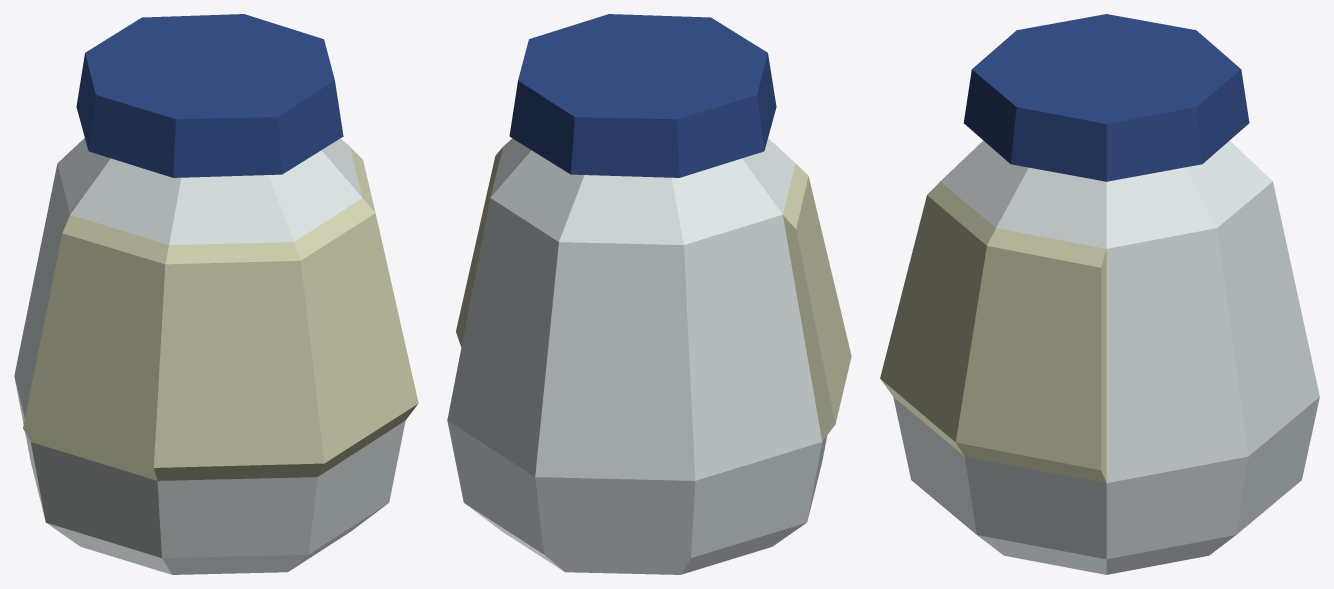
File: Empty Mayo.fbx
3 renders of one model, left to right at view 1: azimuth 30°, elevation 25°; view 2: azimuth 150°, elevation 25°; view 3: azimuth 270°, elevation 25°, orthographic.
Visible parts, largest first — view 1: Empty Mayo; view 2: Empty Mayo; view 3: Empty Mayo.
Boxes of the visible parts, x1,y1,x2,y2 form: Empty Mayo: (14, 14, 418, 574); Empty Mayo: (447, 14, 851, 574); Empty Mayo: (880, 14, 1319, 574).
Size of the model in its own units: 10.7 by 12.08 by 10.85.
